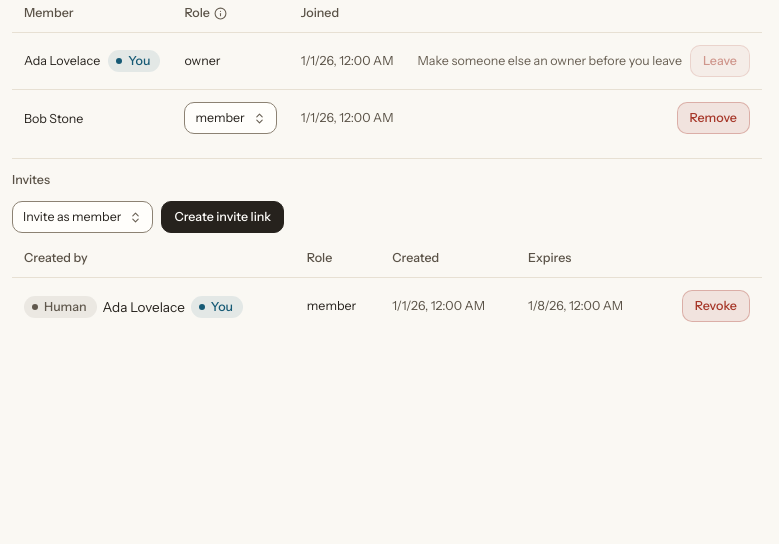
inviting › invites with the role that was picked
Click the button named "Role of the invited person" at (83, 217), box [12,201,153,233]
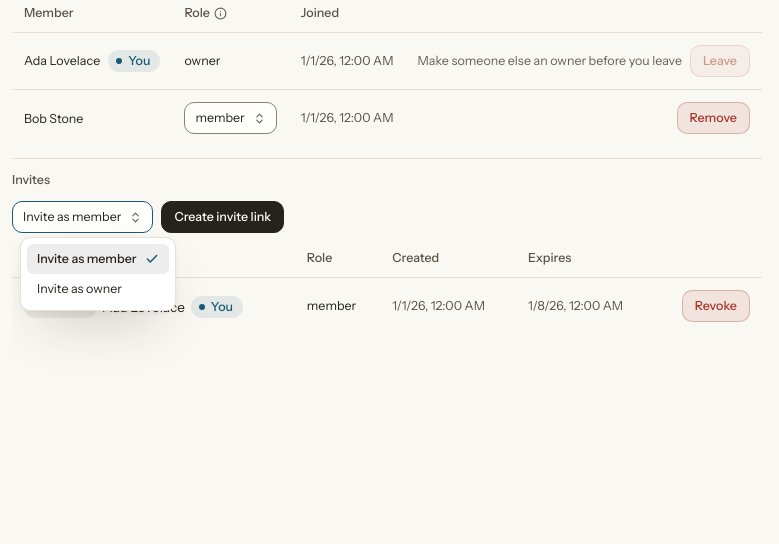
Click the option "Invite as owner" at (80, 288), box [37,281,122,296]
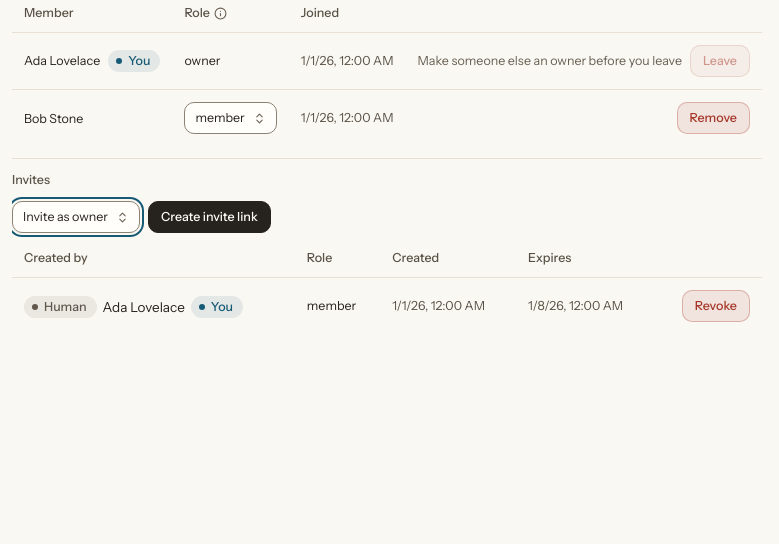
Click the button "Create invite link" at (209, 217), box [148,201,271,233]
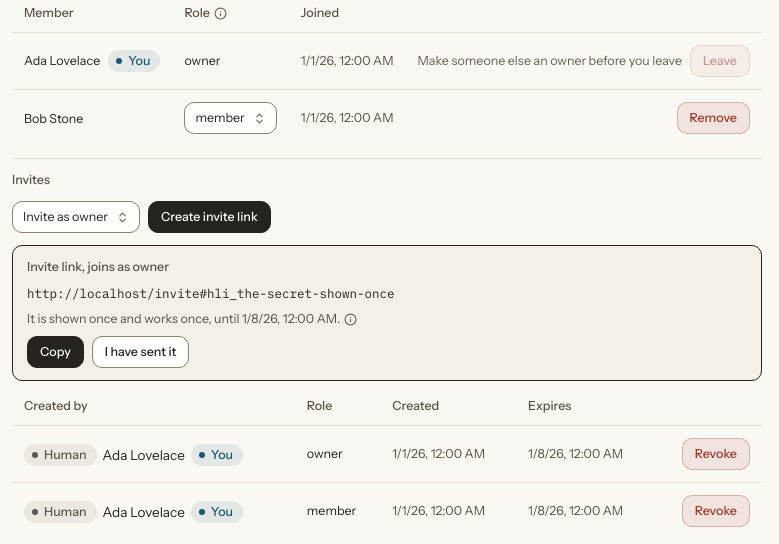
Expected: the picture named "joins as an owner" is shown, [344,313,357,326]
